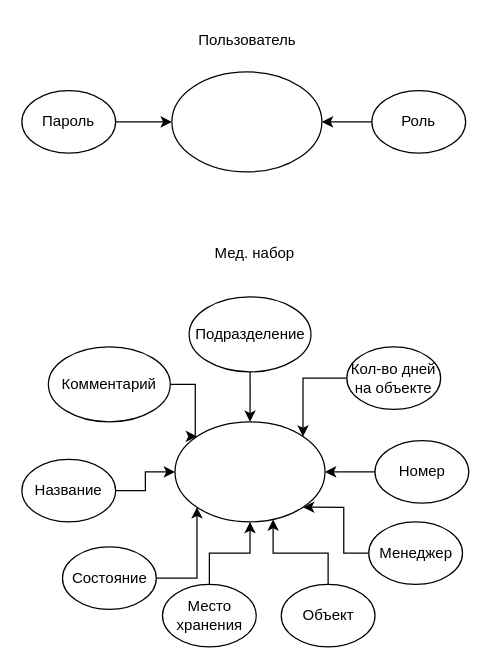
Some shapes in this 491 by 669 pixel diagram are drawn without their labels. The shapes that lost their labels are listed below. From the top down, each one's box as (x1, y1, x2, y2) in pixels, then its label:
(171, 71, 322, 172): Логин
(174, 421, 325, 522): ID набора
